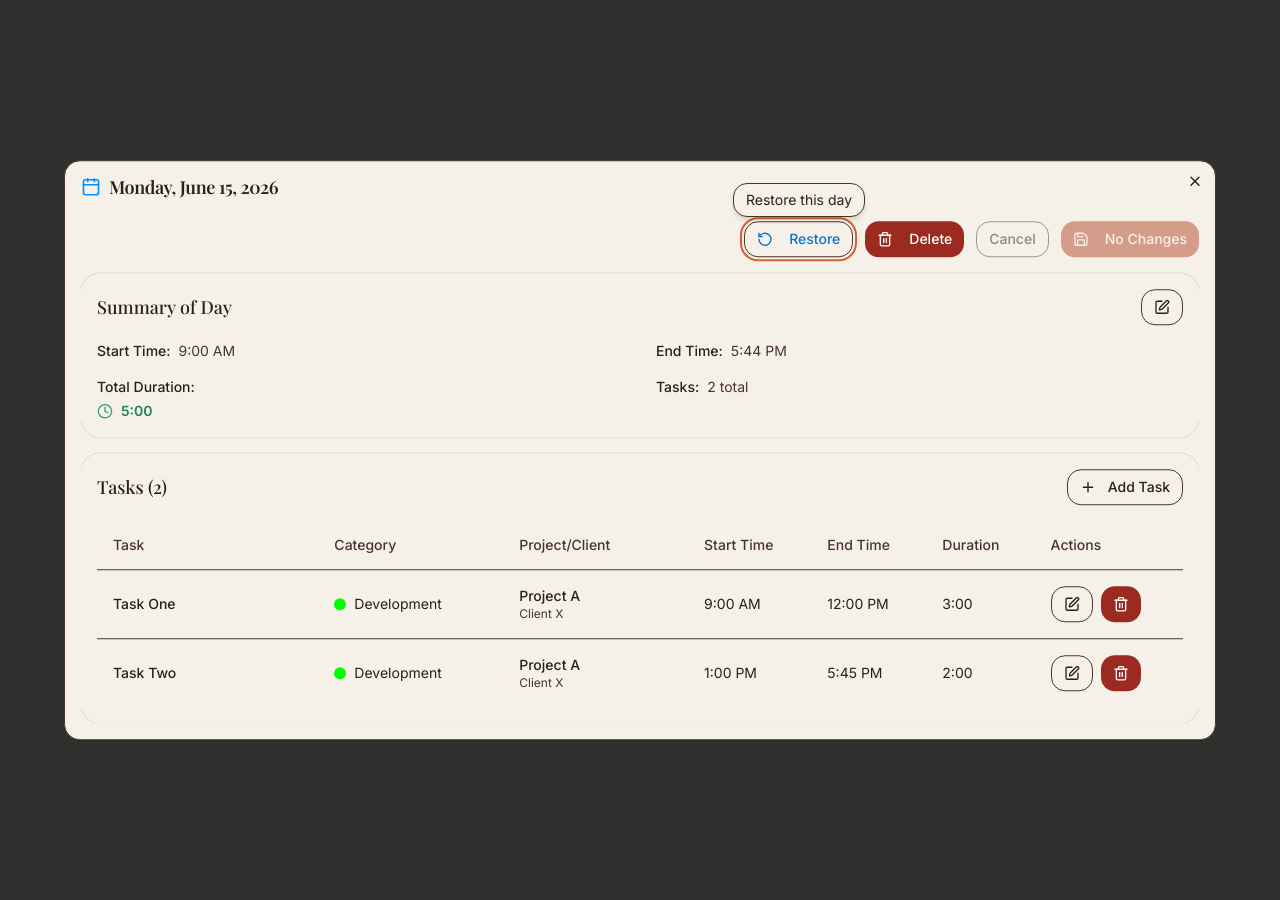
Test: ArchiveEditDialog › toggles the day-summary editor independently of task rows
Step 1. Click the button named "Edit day summary" → (1162, 307), box [1141, 289, 1183, 325]
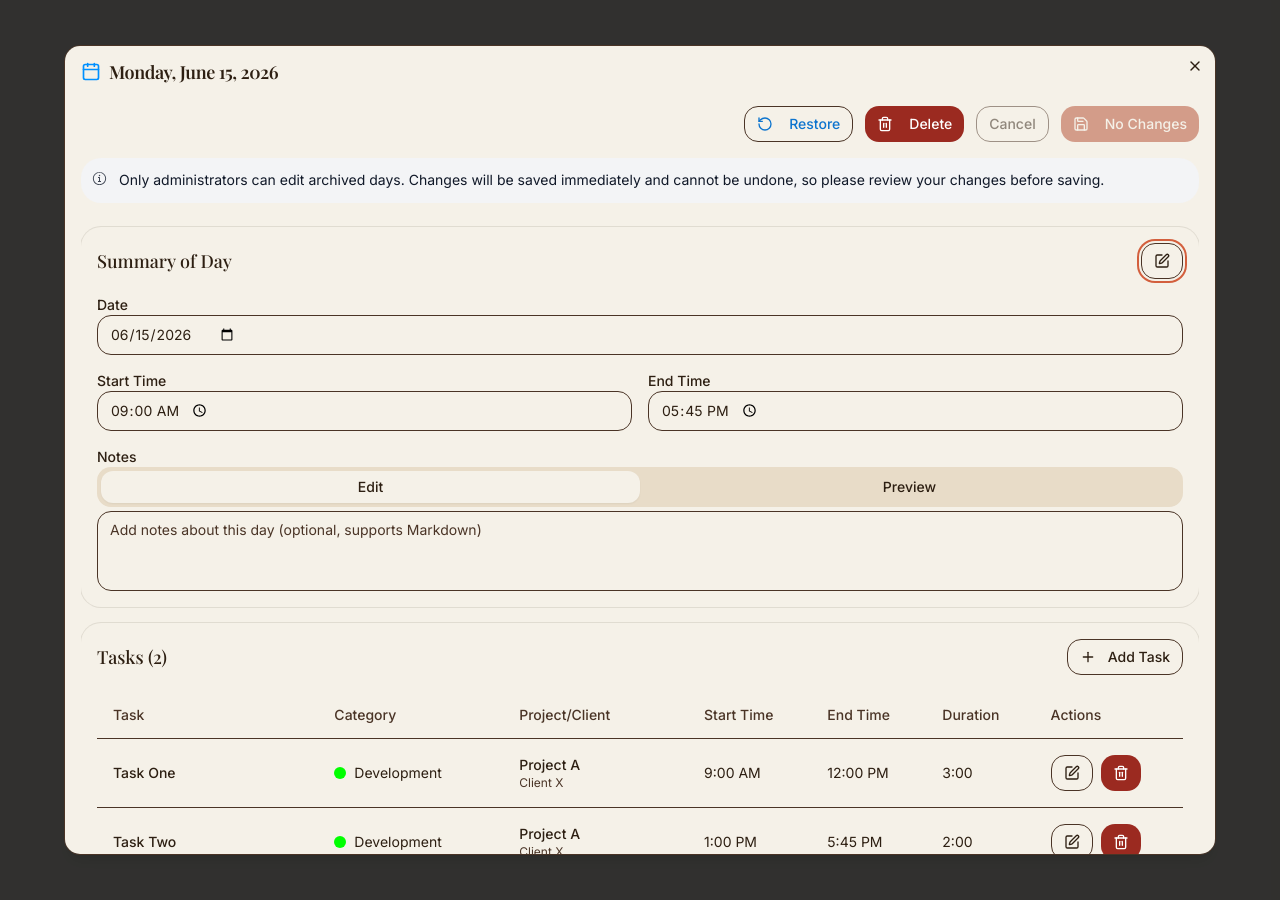
Expected: the time field named "Day start time" is shown, [97, 391, 632, 431]
